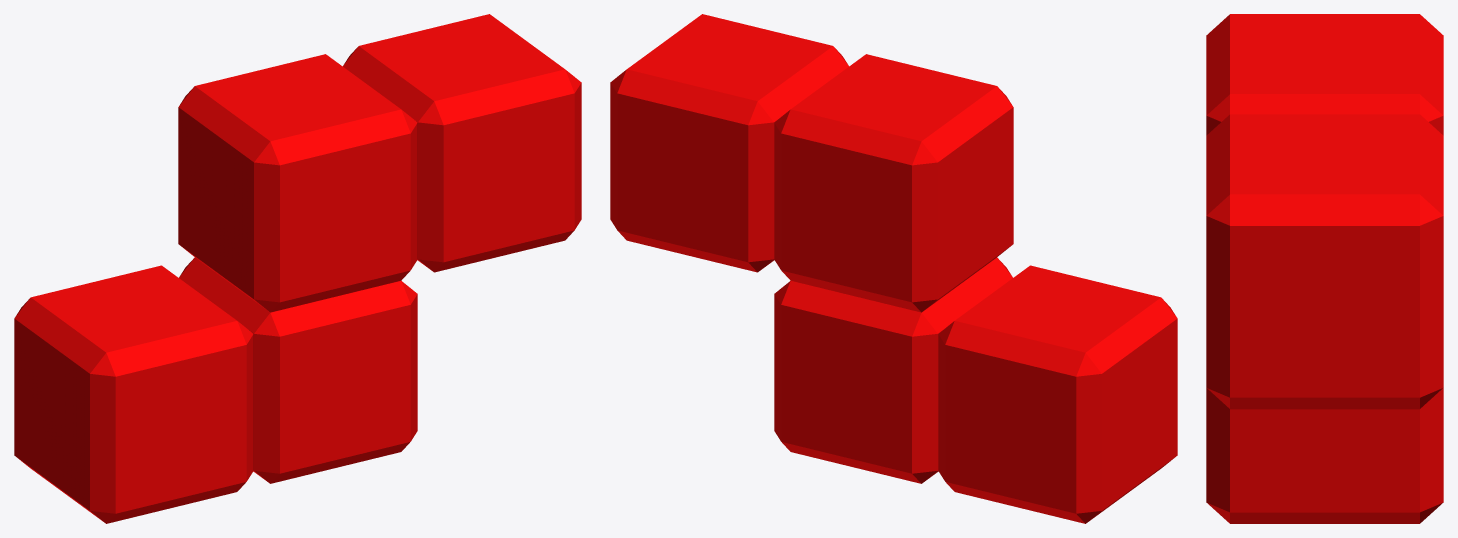
File: Tetris_S&Z.fbx
3 renders of one model, left to right at view 1: azimuth 30°, elevation 25°; view 2: azimuth 150°, elevation 25°; view 3: azimuth 270°, elevation 25°, orthographic. The views are drawn at different scales.
Parts seen in each view (by area): view 1: Box100; view 2: Box100; view 3: Box100.
Part boxes in pixels (bbox=[...]): Box100: bbox=[14, 14, 581, 523]; Box100: bbox=[610, 14, 1177, 523]; Box100: bbox=[1206, 14, 1443, 523].
Size of the model in its own units: 300 by 200 by 100.
